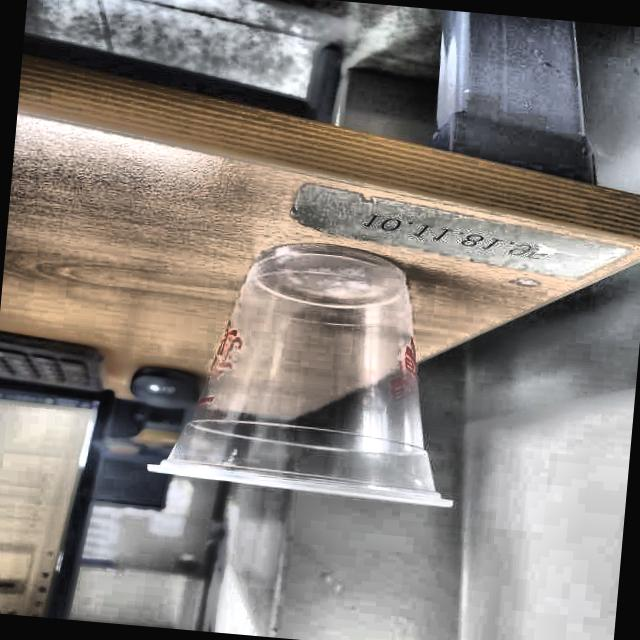plastic cup: (142, 231, 476, 510)
